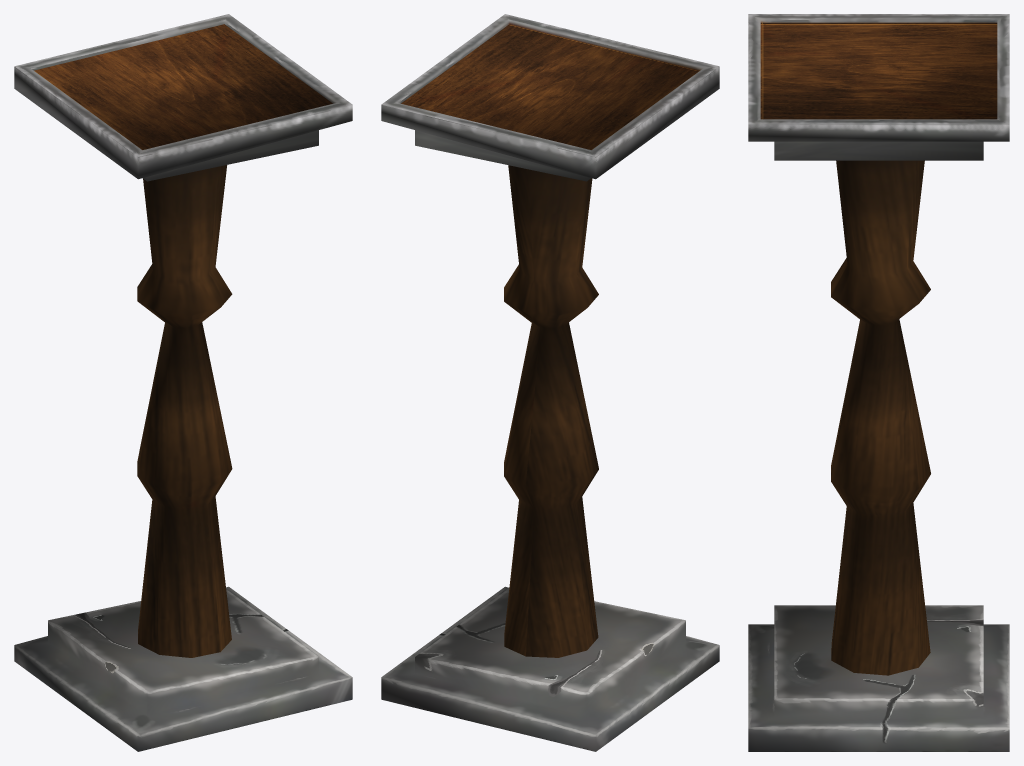
The model's file is candeletavolino.fbx.
3 renders of one model, left to right at view 1: azimuth 30°, elevation 25°; view 2: azimuth 150°, elevation 25°; view 3: azimuth 270°, elevation 25°, orthographic. The views are drawn at different scales.
Parts seen in each view (by area): view 1: Cube.015; view 2: Cube.015; view 3: Cube.015.
Part boxes in pixels (<box>): Cube.015: <box>14,14,352,751</box>; Cube.015: <box>381,14,719,751</box>; Cube.015: <box>748,14,1009,751</box>.
Size of the model in its own units: 54.58 by 145 by 54.58.
